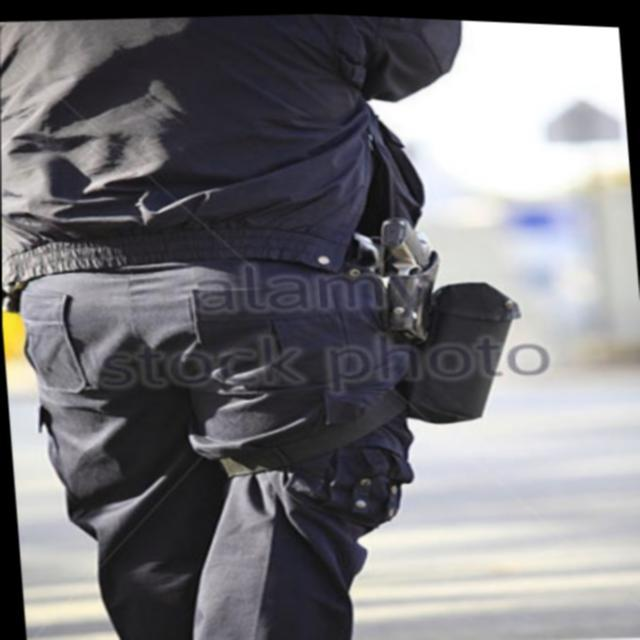weapon: (368, 206, 444, 342)
